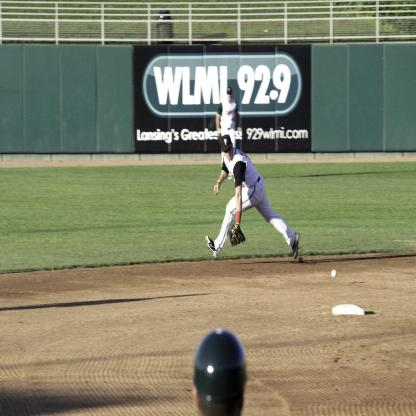Helmet: (191, 338, 253, 406), (218, 130, 232, 154)
